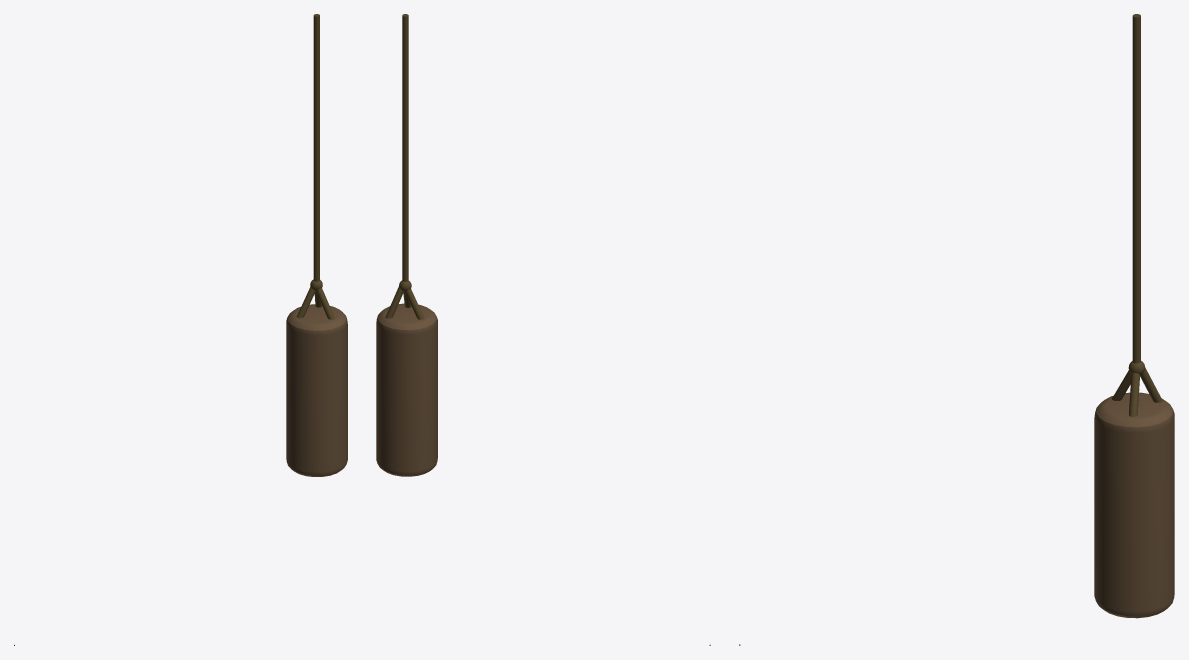
File: Boxing_bag.fbx
3 views of the same model, side by side, from view 1: azimuth 30°, elevation 25°; view 2: azimuth 150°, elevation 25°; view 3: azimuth 330°, elevation 25° (orthographic). The views are drawn at different scales.
Parts seen in each view (by area): view 1: boxing_bag; view 2: boxing_bag; view 3: boxing_bag.
Part boxes in pixels (x1=…): boxing_bag: x1=14, y1=14, x2=347, y2=645; boxing_bag: x1=376, y1=14, x2=710, y2=645; boxing_bag: x1=739, y1=14, x2=1174, y2=645.
Bounding box in the file's own units: 763 × 1229 × 124.
